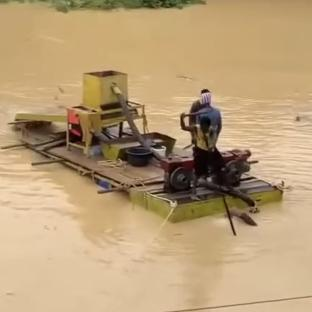ProcessingEquipment: (7, 67, 293, 227)
